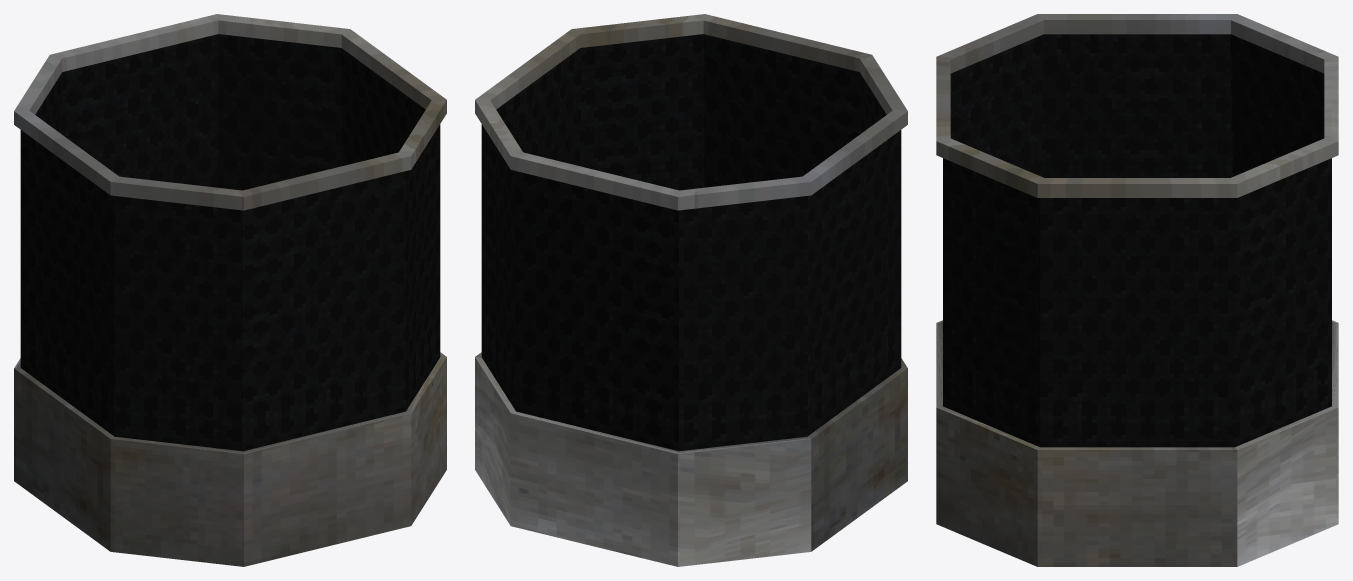
File: CoalBasketEnding.fbx
3 views of the same model, side by side, from view 1: azimuth 30°, elevation 25°; view 2: azimuth 150°, elevation 25°; view 3: azimuth 270°, elevation 25° (orthographic). The views are drawn at different scales.
Visible parts, largest first — view 1: Basket2; view 2: Basket2; view 3: Basket2.
Boxes of the visible parts, x1,y1,x2,y2 form: Basket2: [14, 14, 446, 566]; Basket2: [475, 14, 907, 566]; Basket2: [936, 14, 1338, 566].
Bounding box in the file's own units: 1.76 × 1.85 × 1.76.
3 materials, 3 textured.
